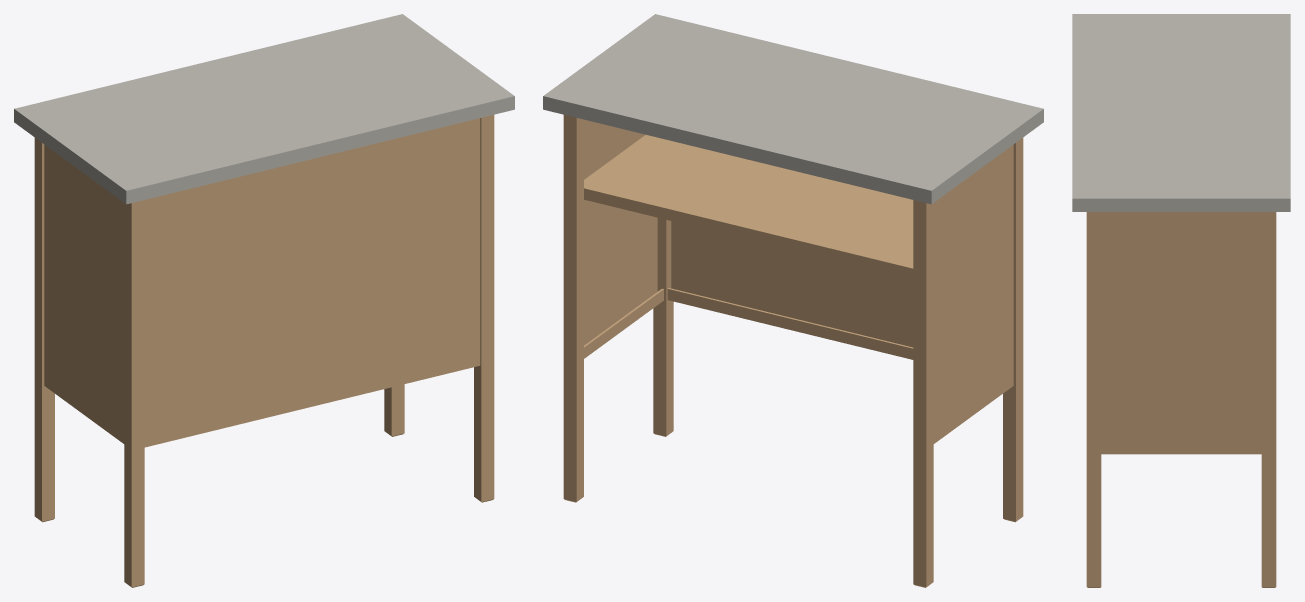
File: 718_teachers_desk.glb
The picture shows the model from 3 angles, left to right: view 1: azimuth 30°, elevation 25°; view 2: azimuth 150°, elevation 25°; view 3: azimuth 270°, elevation 25°; orthographic projection. The views are drawn at different scales.
Parts seen in each view (by area): view 1: Body; view 2: Body; view 3: Body.
Part boxes in pixels (<box>): Body: <box>14,14,514,587</box>; Body: <box>543,14,1043,587</box>; Body: <box>1072,14,1290,587</box>.
Bounding box in the file's own units: 0.9 × 0.9 × 0.45.
